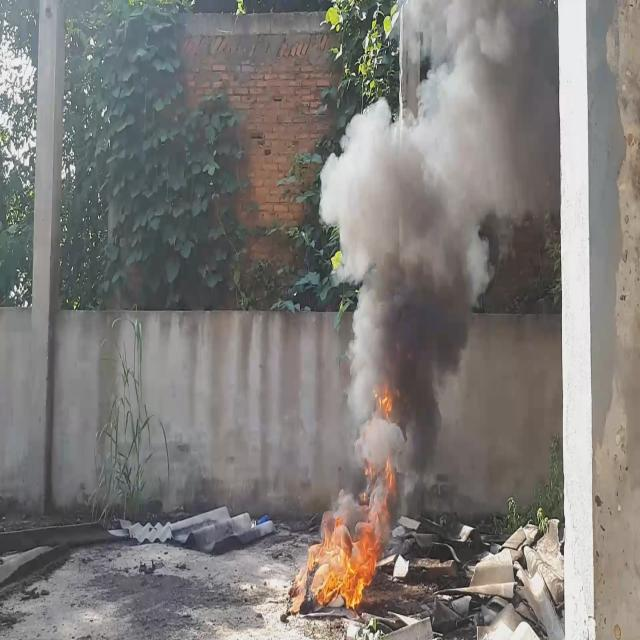Fire: (312, 454, 396, 612)
Smoke: (321, 0, 558, 472)
